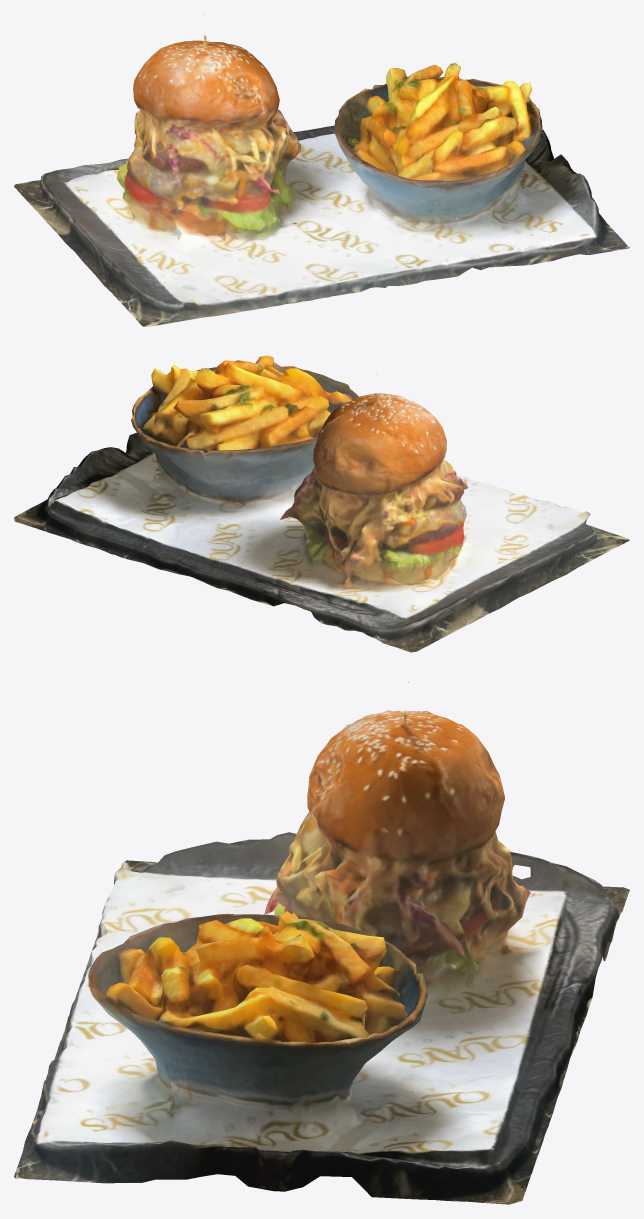
The model's file is asset.glb.
The picture shows the model from 3 angles, top to bottom: view 1: azimuth 30°, elevation 25°; view 2: azimuth 150°, elevation 25°; view 3: azimuth 270°, elevation 25°; orthographic projection. The views are drawn at different scales.
Parts seen in each view (by area): view 1: Object_2; view 2: Object_2; view 3: Object_2.
Boxes of the visible parts, x1=… form: Object_2: x1=14, y1=14, x2=629, y2=326; Object_2: x1=14, y1=355, x2=629, y2=652; Object_2: x1=14, y1=681, x2=629, y2=1204.
Size of the model in its own units: 362 by 144 by 273.
Materials: 1 (1 with a texture image).
